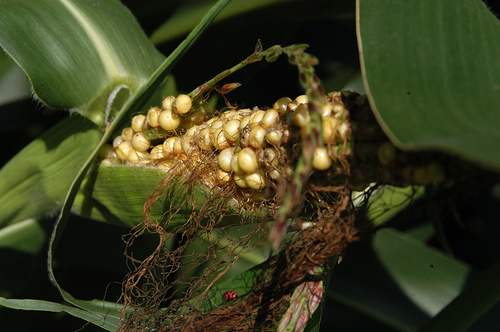corn: (0, 92, 351, 246)
